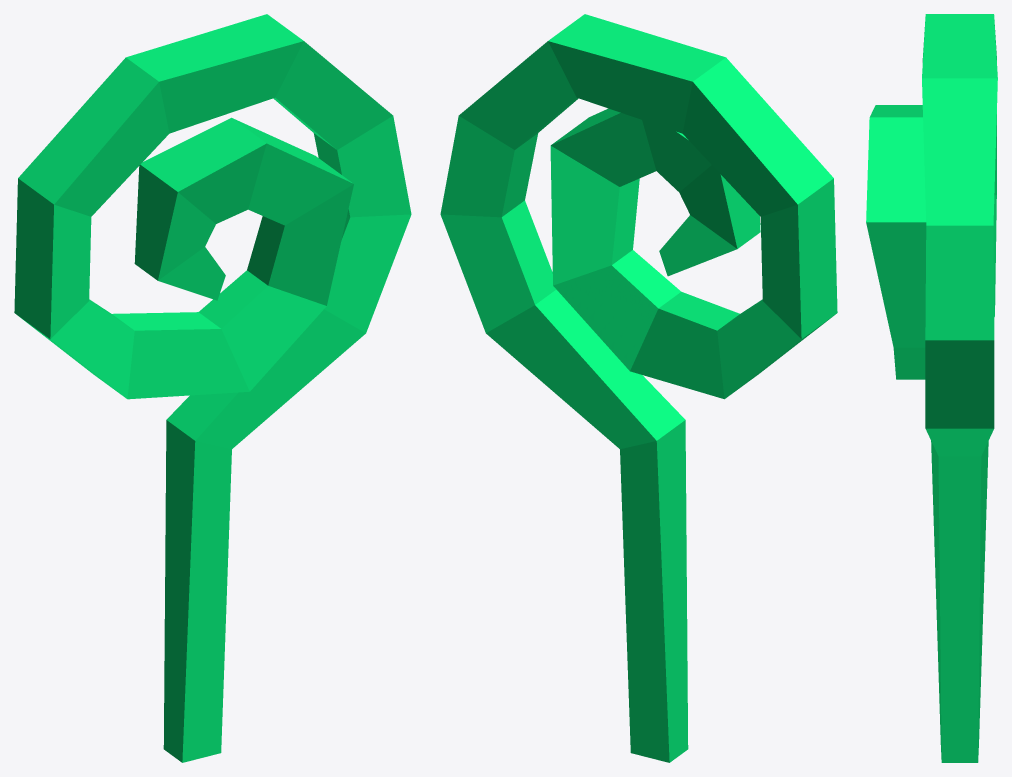
File: question_grass.fbx
The picture shows the model from 3 angles, left to right: view 1: azimuth 30°, elevation 25°; view 2: azimuth 150°, elevation 25°; view 3: azimuth 270°, elevation 25°; orthographic projection. The views are drawn at different scales.
Visible parts, largest first — view 1: Mesh; view 2: Mesh; view 3: Mesh.
Part boxes in pixels (left/top/right/bottom): Mesh: left=14, top=14, right=411, bottom=762; Mesh: left=440, top=14, right=837, bottom=762; Mesh: left=866, top=14, right=997, bottom=762.
Size of the model in its own units: 0.5162 by 0.9547 by 0.1581.
